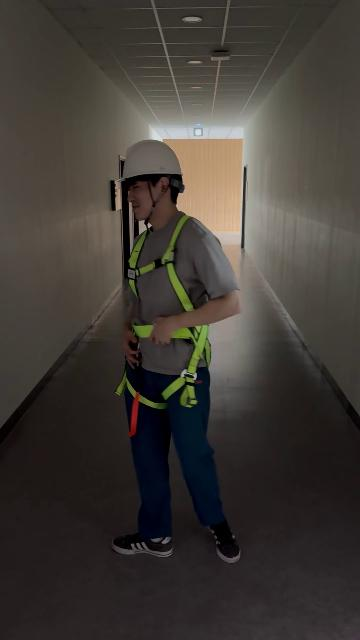helmet_worn: (114, 139, 183, 185)
shoe_not_worn: (112, 531, 171, 557), (207, 522, 241, 563)
vest_worn: (114, 217, 215, 412)
